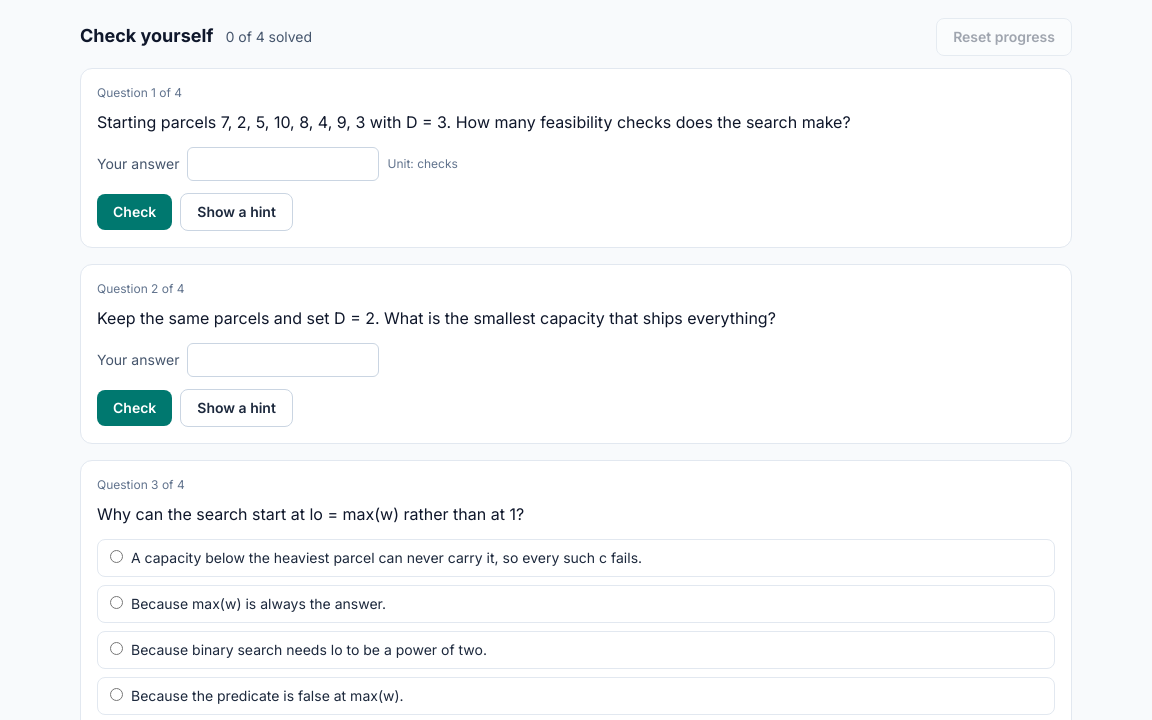
Test case: binary search on the answer lesson › checks a practice answer, wrong then right, with a hint
(page scrolled)
Type "23" into the field named "answer".
click(284, 360); type("23")  # box [188,343,380,377]
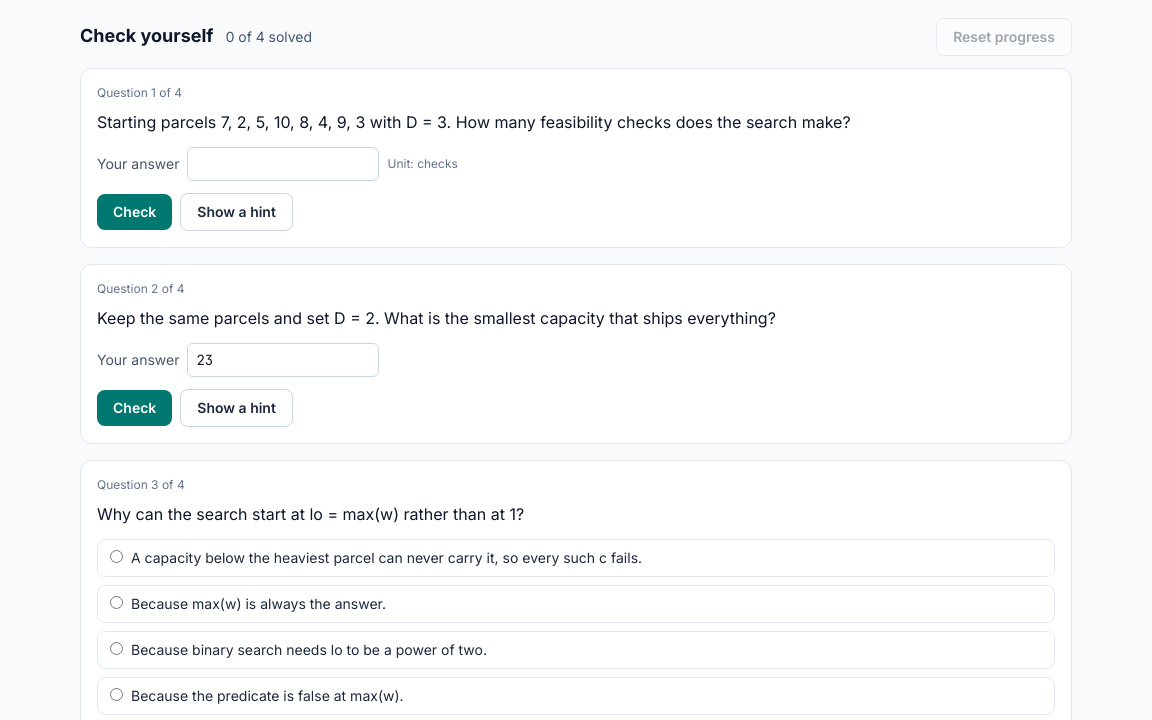
Submit the form "Your answer Check Show a hint", box [97,343,380,427]
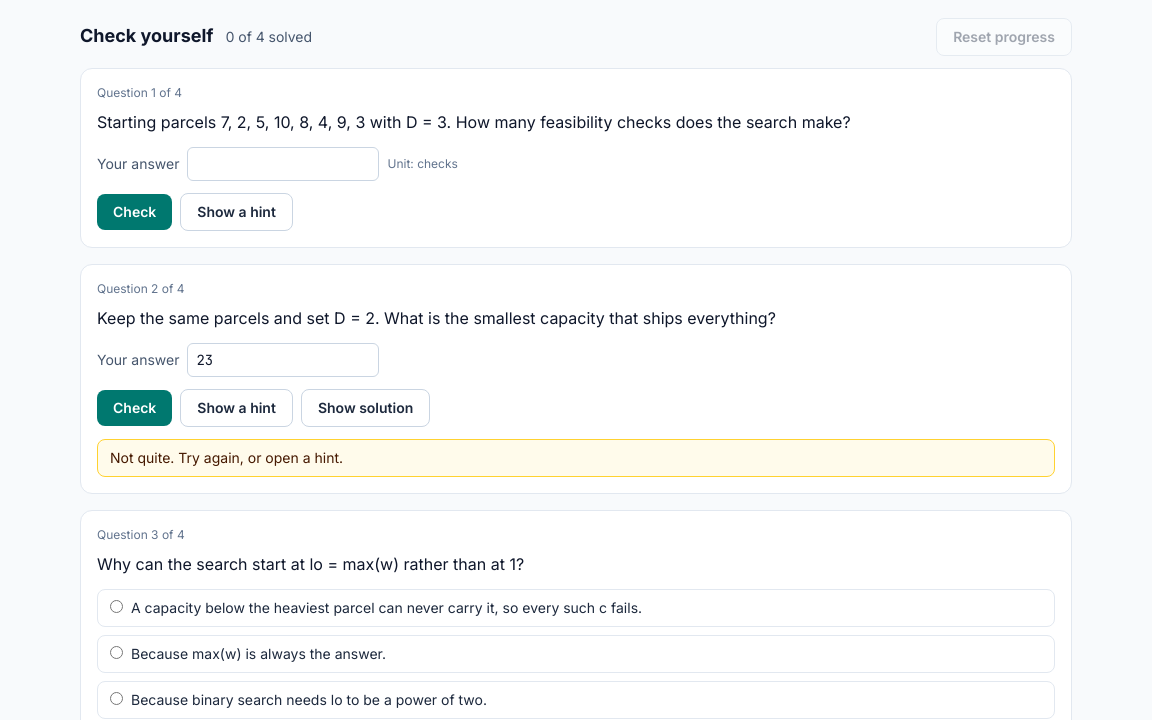
Expected: the list item that starts with "Question 2 of 4" shows "Not quite", [110,449,343,466]
Click the button "Show a hint" below "Question 2 of 4".
click(237, 408)  # box [180,389,293,427]
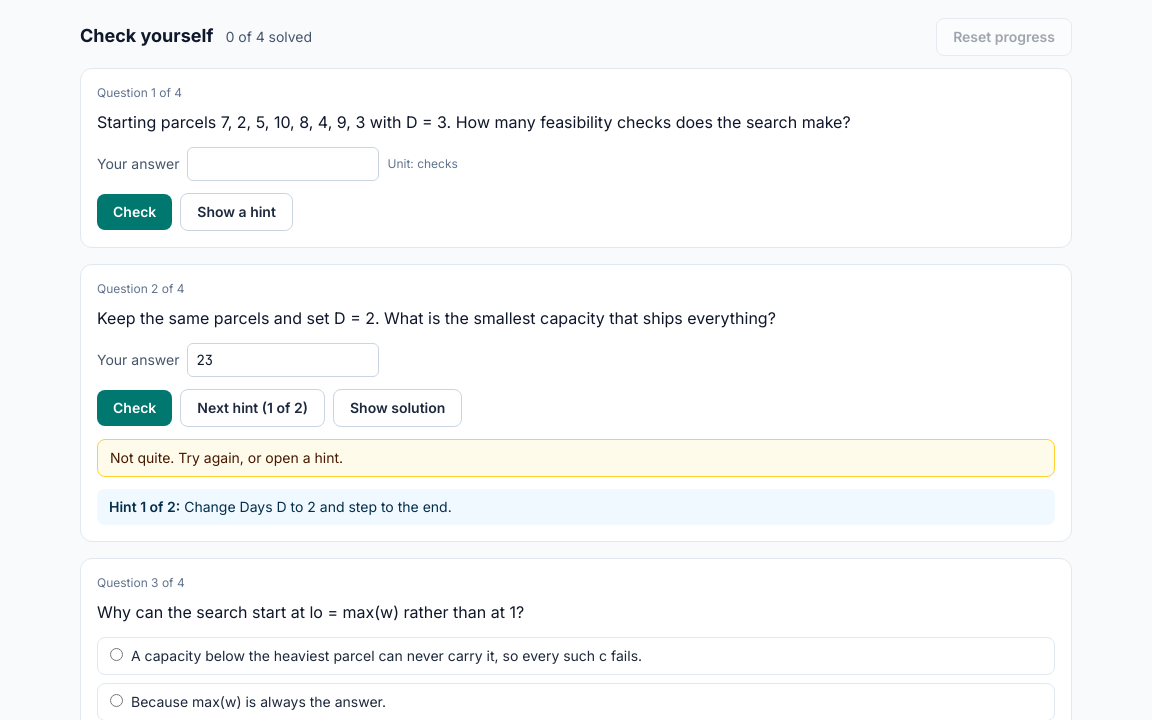
Expected: the list item that starts with "Question 2 of 4" shows "Change Days D to 2 and step to the end.", [180,498,452,515]
Replace the text in the field named "answer" with "24" at (284, 360), box [188,343,380,377]
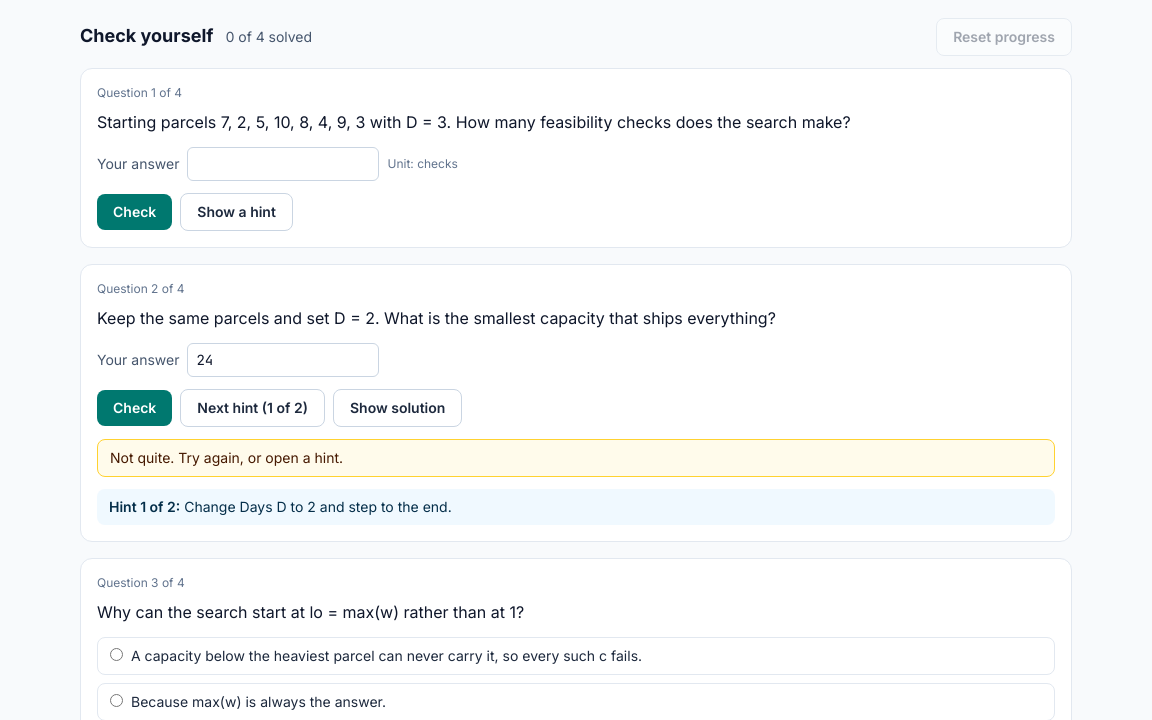
Submit the form "Your answer Check Next hint (1 of 2) Show solution", box [97,343,462,427]
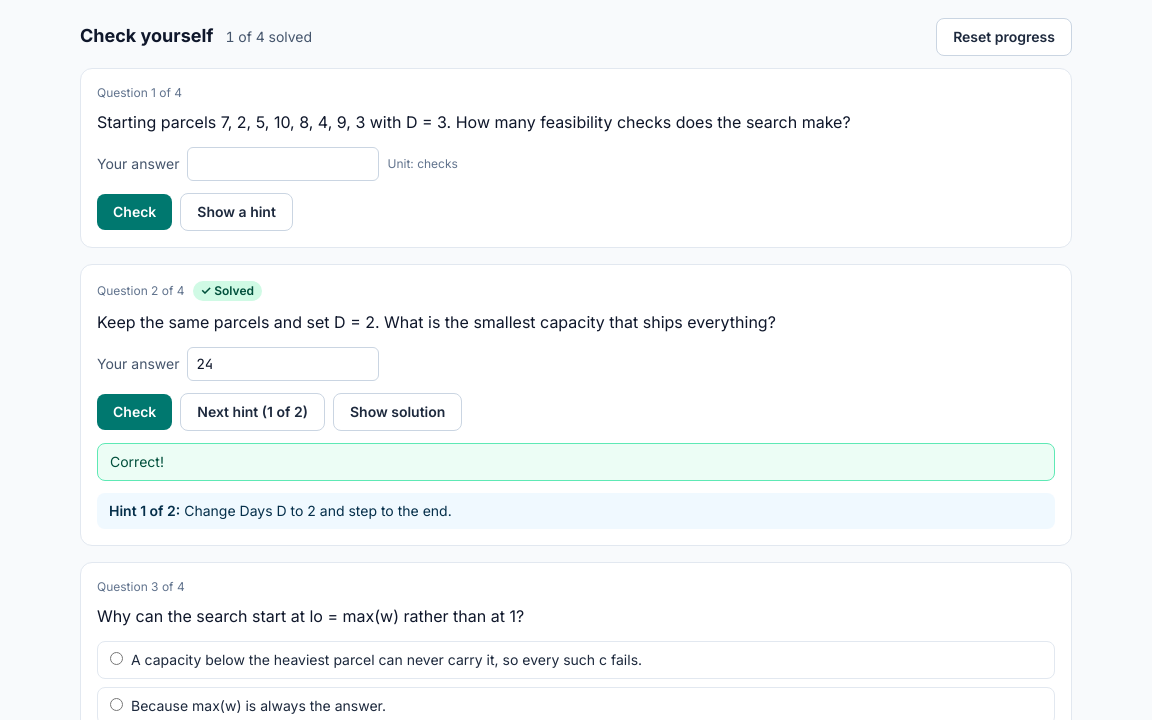
Expected: the list item that starts with "Question 2 of 4" shows "Correct!", [110,453,164,470]
